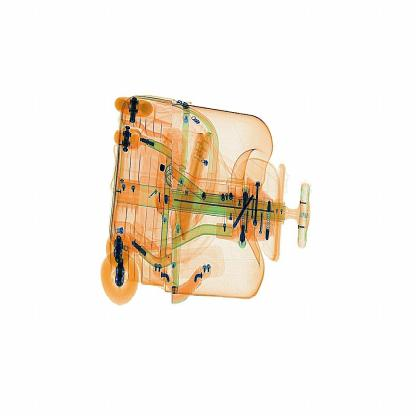knife: (226, 184, 256, 241)
